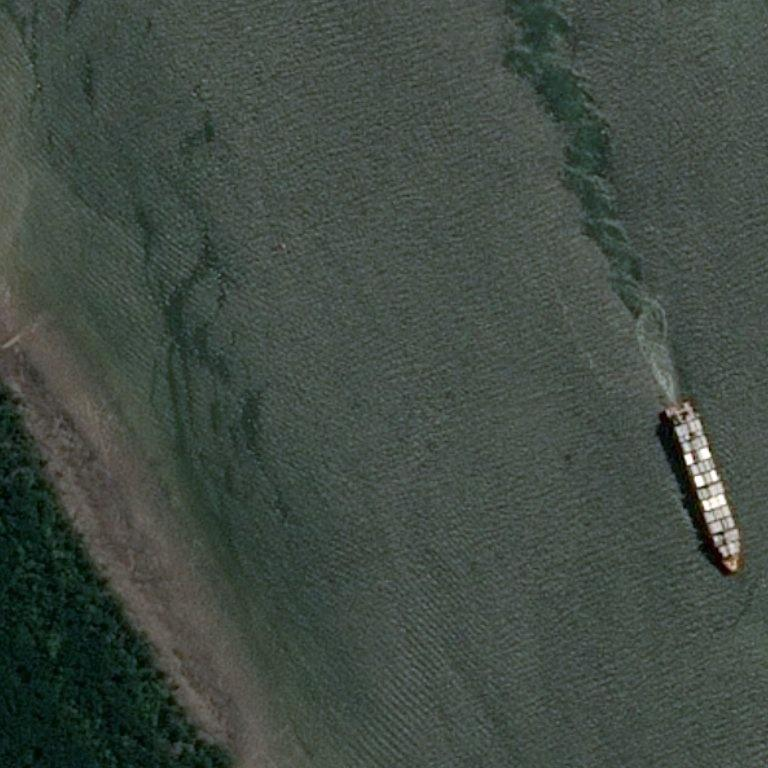ship: (662, 400, 756, 584)
